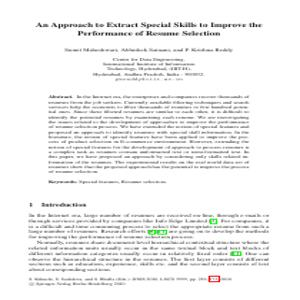text: (24, 45, 264, 287), (32, 19, 265, 39)
